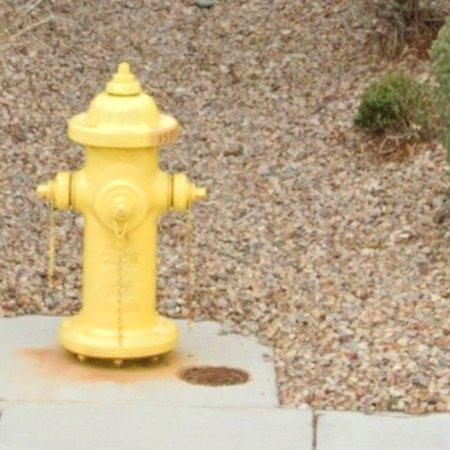a fire hydrant: (37, 62, 207, 360)
